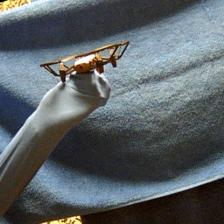drone: (39, 39, 131, 83)
